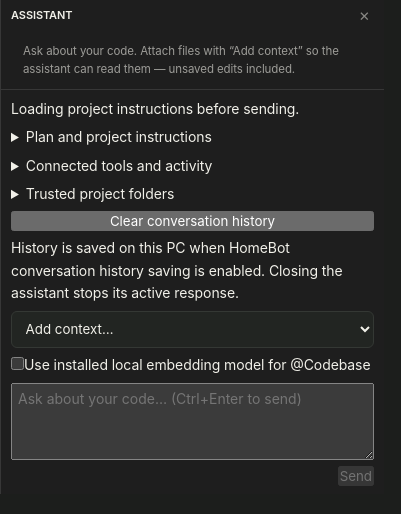
it: ephemeral assistant without recovery or save APIs stays usable and cannot write durable history
In the text box named "Ask the assistant": (192, 421) left=11, top=382, right=374, bottom=460, type "ephemeral question"
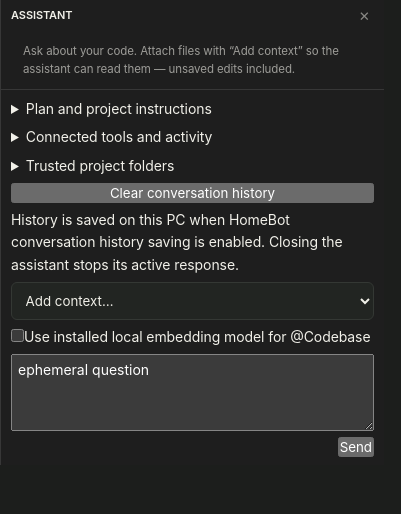
expect the button "Send" is enabled: met
Click the button "Send": (356, 447) left=338, top=437, right=374, bottom=457
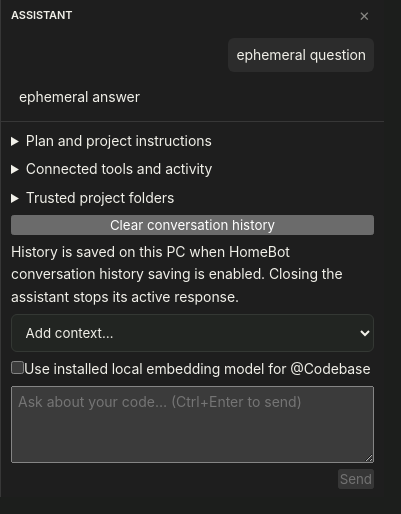
expect the element showing "ephemeral question ephemeral answer" is shown: met, box left=1, top=32, right=384, bottom=121
